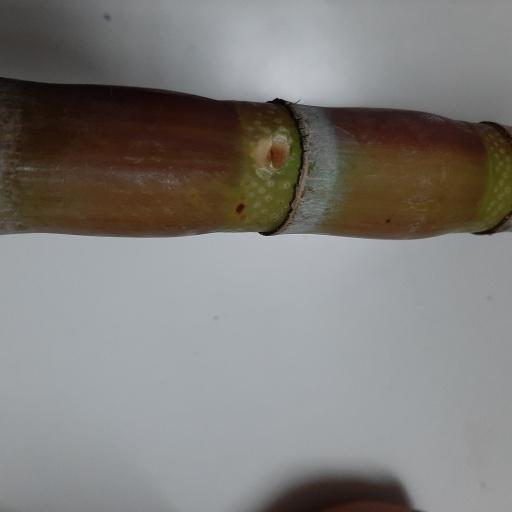Damage_Bud: (255, 131, 294, 177)
